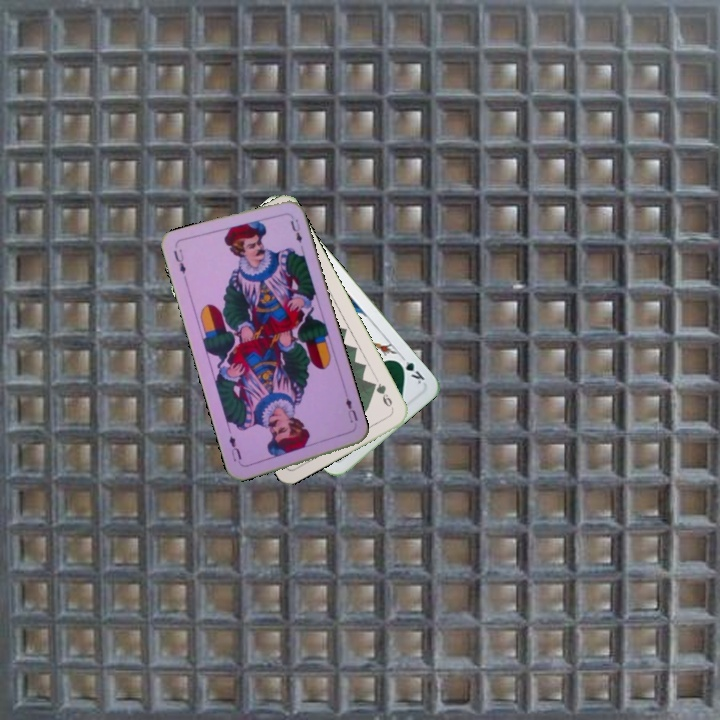EU: (169, 245, 188, 277), (341, 394, 360, 425)
G9: (368, 378, 396, 412)
GK: (393, 352, 427, 388)
